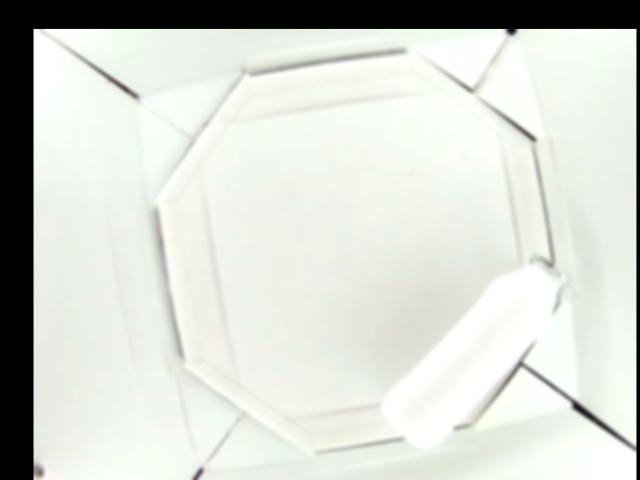Bottle: (383, 254, 570, 448)
